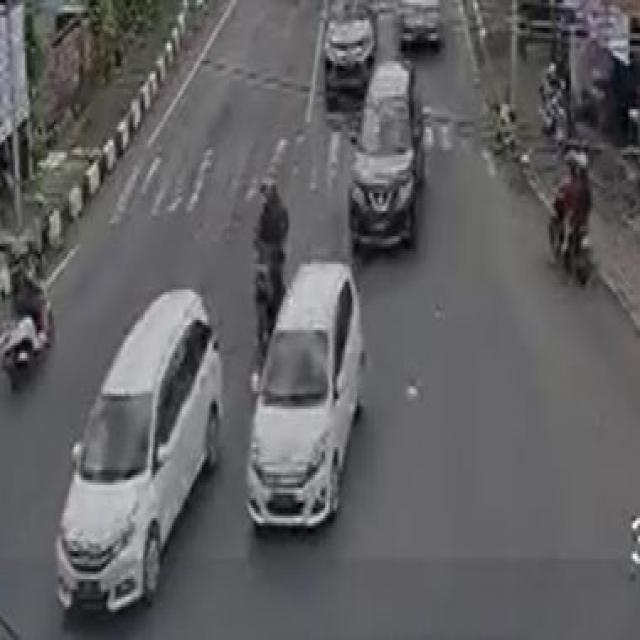car: (54, 284, 229, 613), (246, 269, 371, 532), (358, 59, 442, 266), (319, 0, 383, 120), (402, 0, 454, 51)
motorbike: (1, 240, 61, 381), (546, 154, 594, 295), (240, 182, 280, 346)
